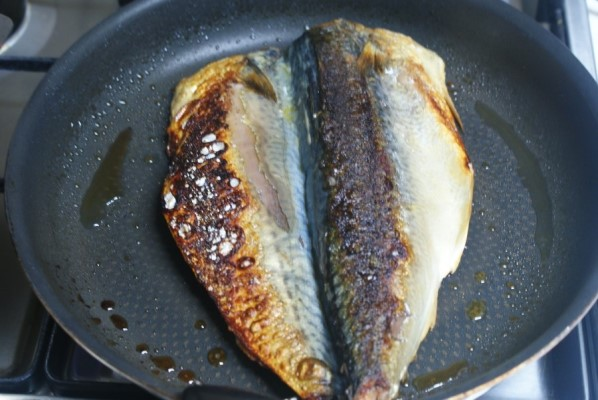godeung-eogu-i: (296, 13, 476, 400), (163, 36, 345, 400)
